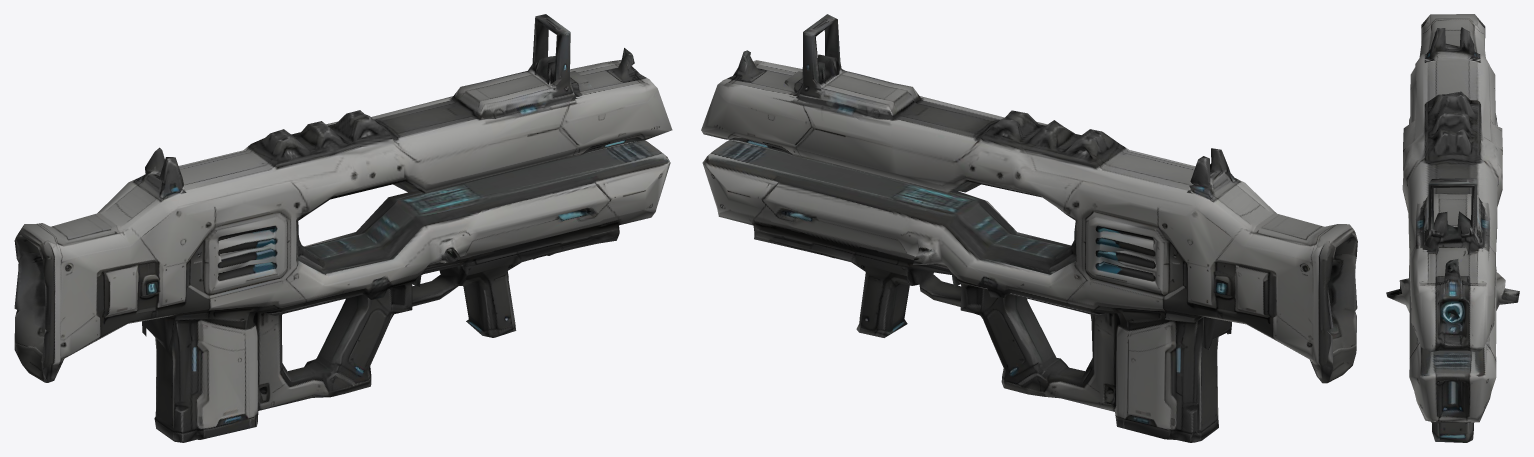
The model's file is tripo_convert_ea7d359e-3bfe-4d25-b202-32447a40f740.fbx.
3 views of the same model, side by side, from view 1: azimuth 30°, elevation 25°; view 2: azimuth 150°, elevation 25°; view 3: azimuth 270°, elevation 25° (orthographic). The views are drawn at different scales.
Parts seen in each view (by area): view 1: tripo_node_ea7d359e; view 2: tripo_node_ea7d359e; view 3: tripo_node_ea7d359e.
Boxes of the visible parts, x1,y1,x2,y2 form: tripo_node_ea7d359e: (14, 14, 672, 442); tripo_node_ea7d359e: (701, 14, 1357, 442); tripo_node_ea7d359e: (1386, 14, 1519, 442).
Size of the model in its own units: 0.9804 by 0.4696 by 0.1843.
